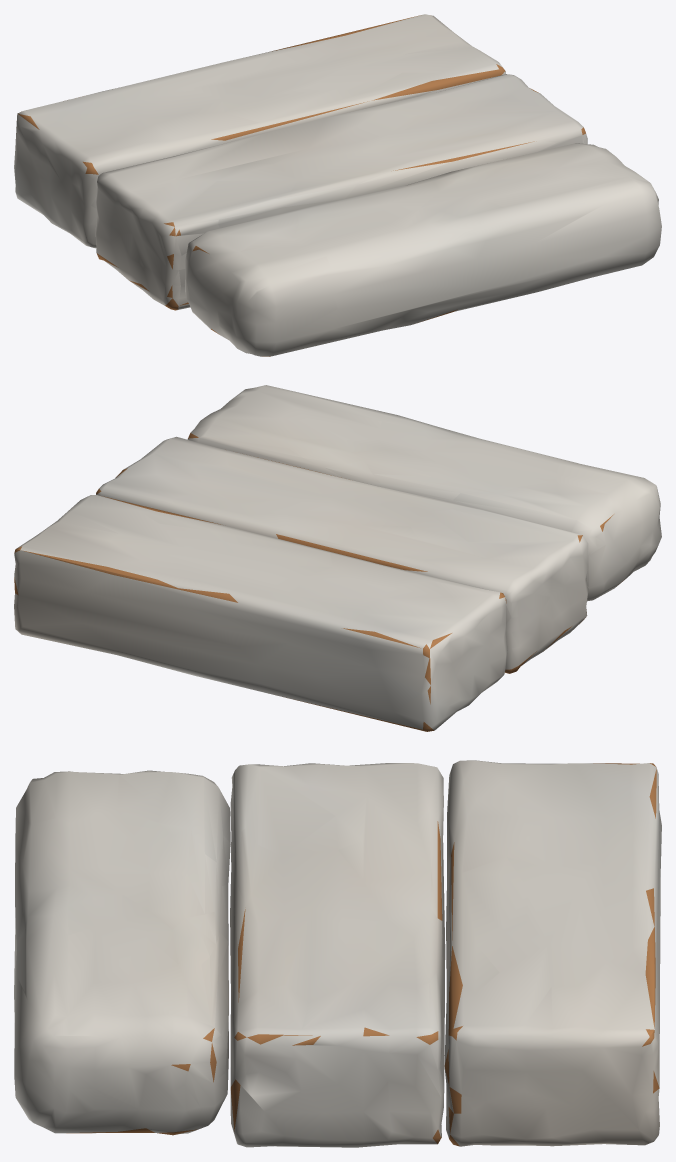
The model's file is frost_sill_ledge_lod1.glb.
3 renders of one model, top to bottom at view 1: azimuth 30°, elevation 25°; view 2: azimuth 150°, elevation 25°; view 3: azimuth 270°, elevation 25°, orthographic. The views are drawn at different scales.
Visible parts, largest first — view 1: frost_sill_ledge.001; view 2: frost_sill_ledge.001; view 3: frost_sill_ledge.001.
Part boxes in pixels (x1,y1,x2,y2): frost_sill_ledge.001: (14,14,661,356); frost_sill_ledge.001: (14,385,661,731); frost_sill_ledge.001: (14,760,661,1147).
Size of the model in its own units: 20.15 by 4.26 by 20.02.
